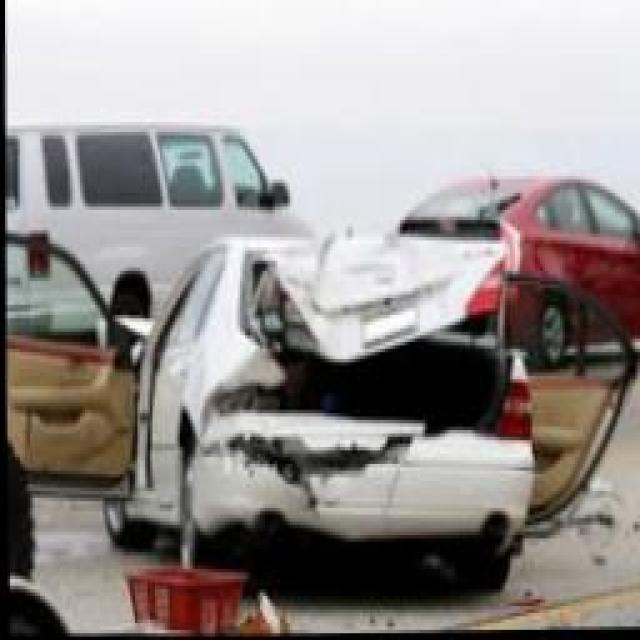Bumper: (195, 423, 476, 539)
Dickey: (242, 230, 510, 424)
